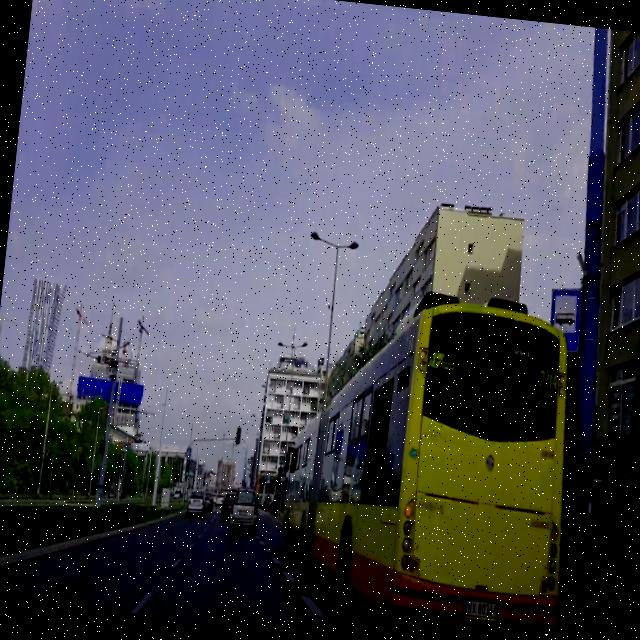Przejscie dla pieszych: (185, 446, 192, 458)
